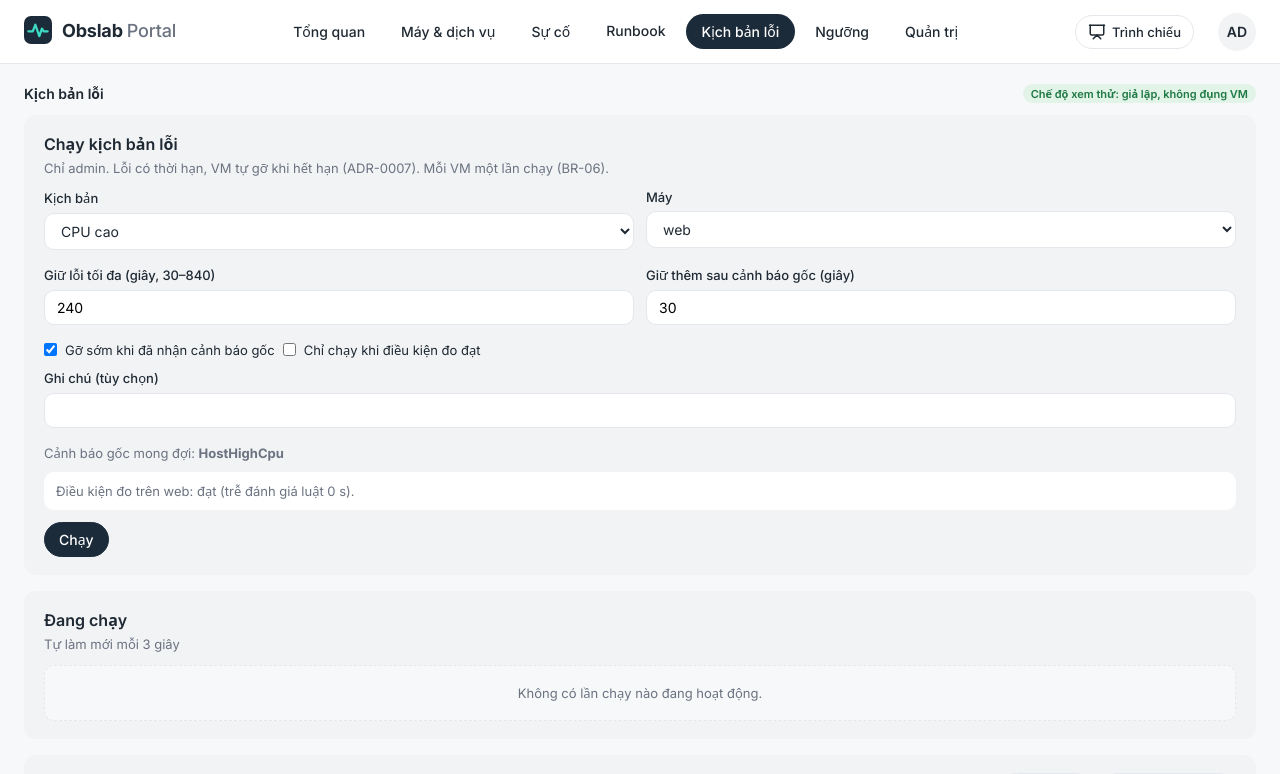
it: kịch bản lỗi › chế độ xem thử: chạy kịch bản gửi đúng tham số
Expected: the text "Chế độ xem thử: giả lập, không đụng VM" is shown, left=1023, top=84, right=1256, bottom=103
Select "RAM cao" in the dropdown labelled "Kịch bản" at (339, 232), box left=44, top=213, right=634, bottom=250
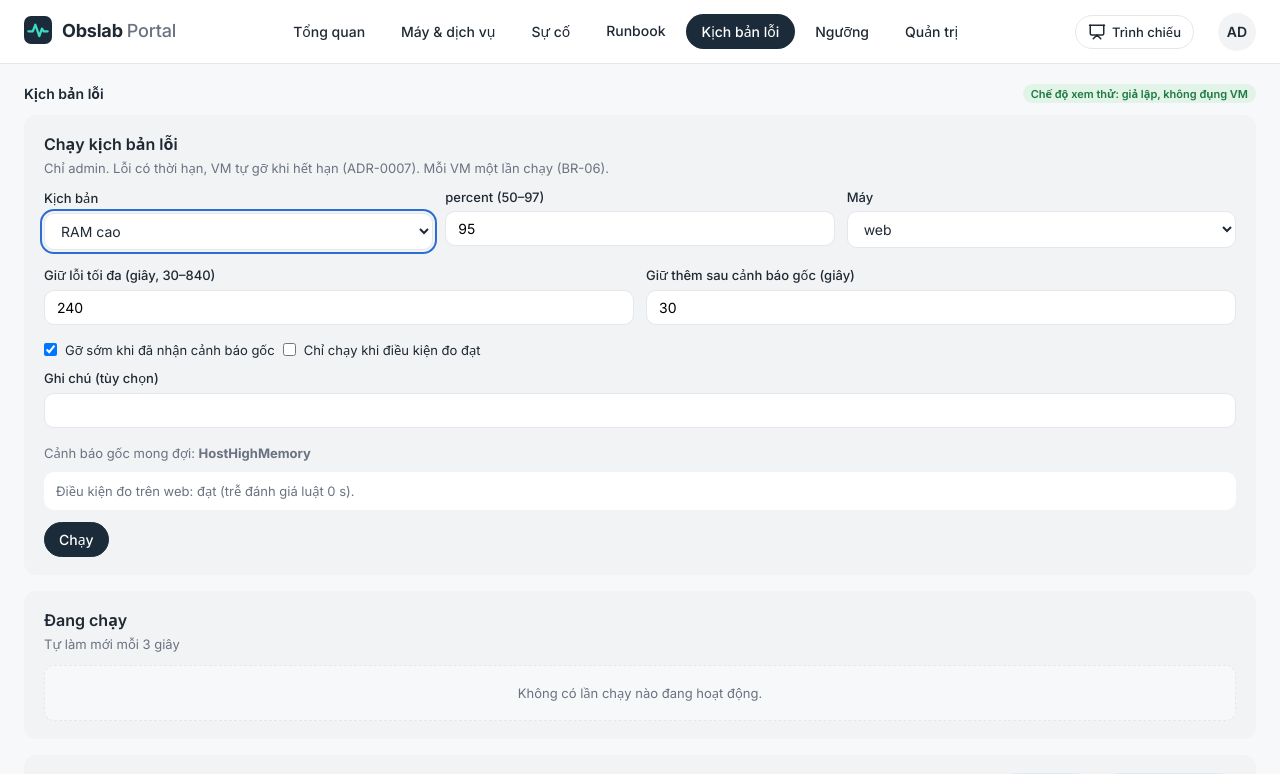
Replace the text in the number field labelled "percent (50–97)" with "90" at (640, 228), box left=445, top=211, right=835, bottom=246
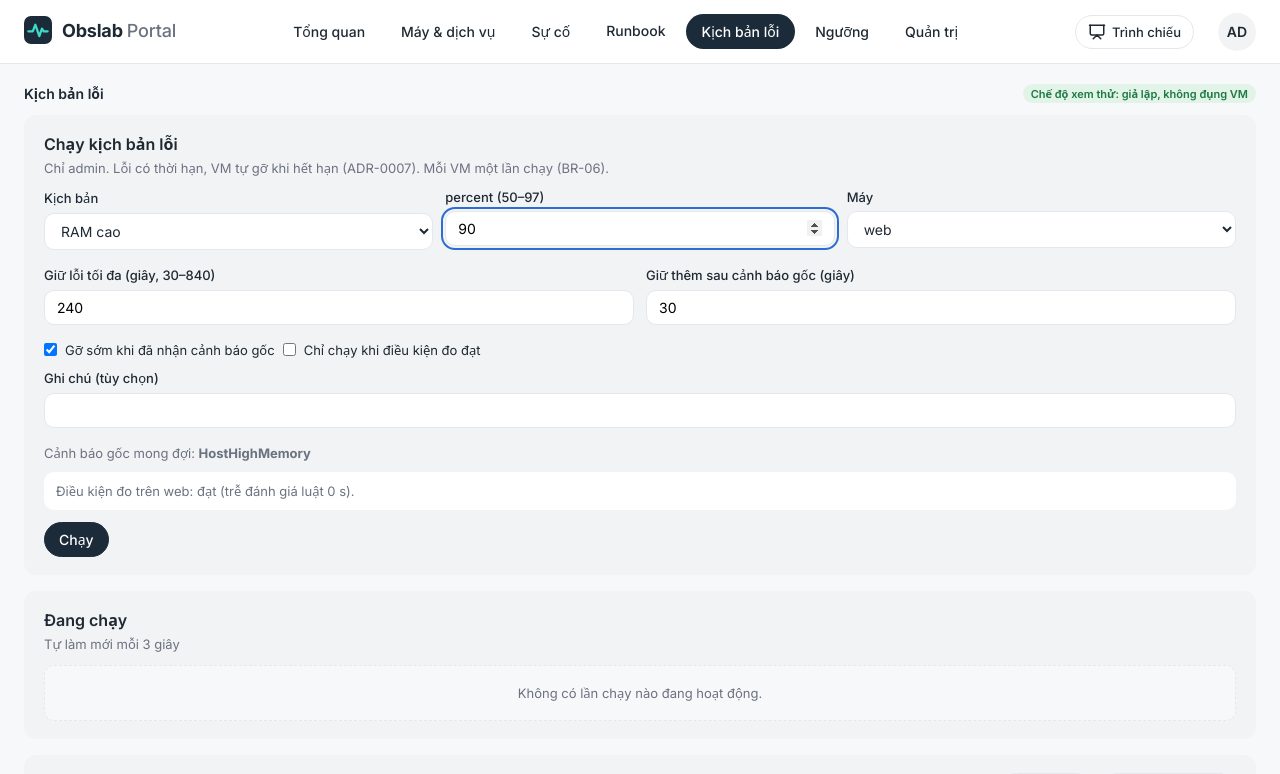
Select "db" in the dropdown labelled "Máy" at (1041, 230), box left=847, top=211, right=1236, bottom=248
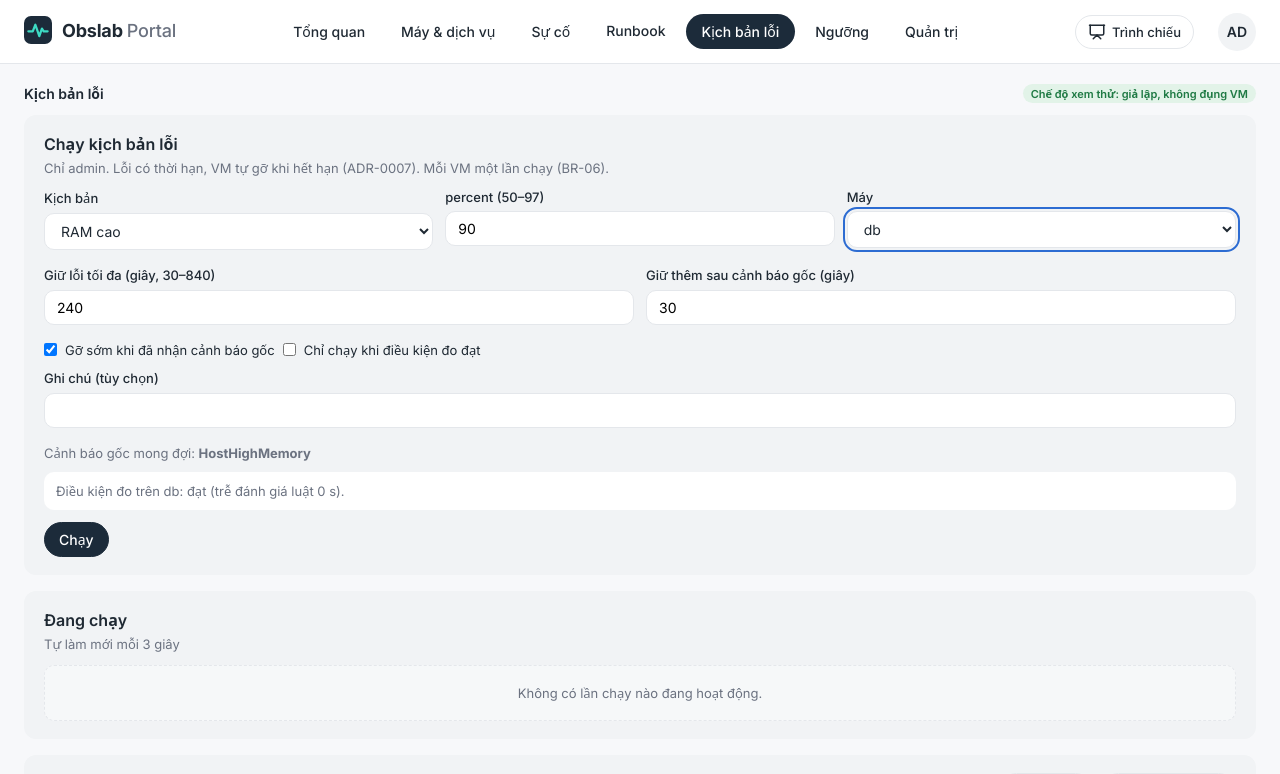
Click the button "Chạy" at (76, 540), box left=44, top=522, right=109, bottom=557
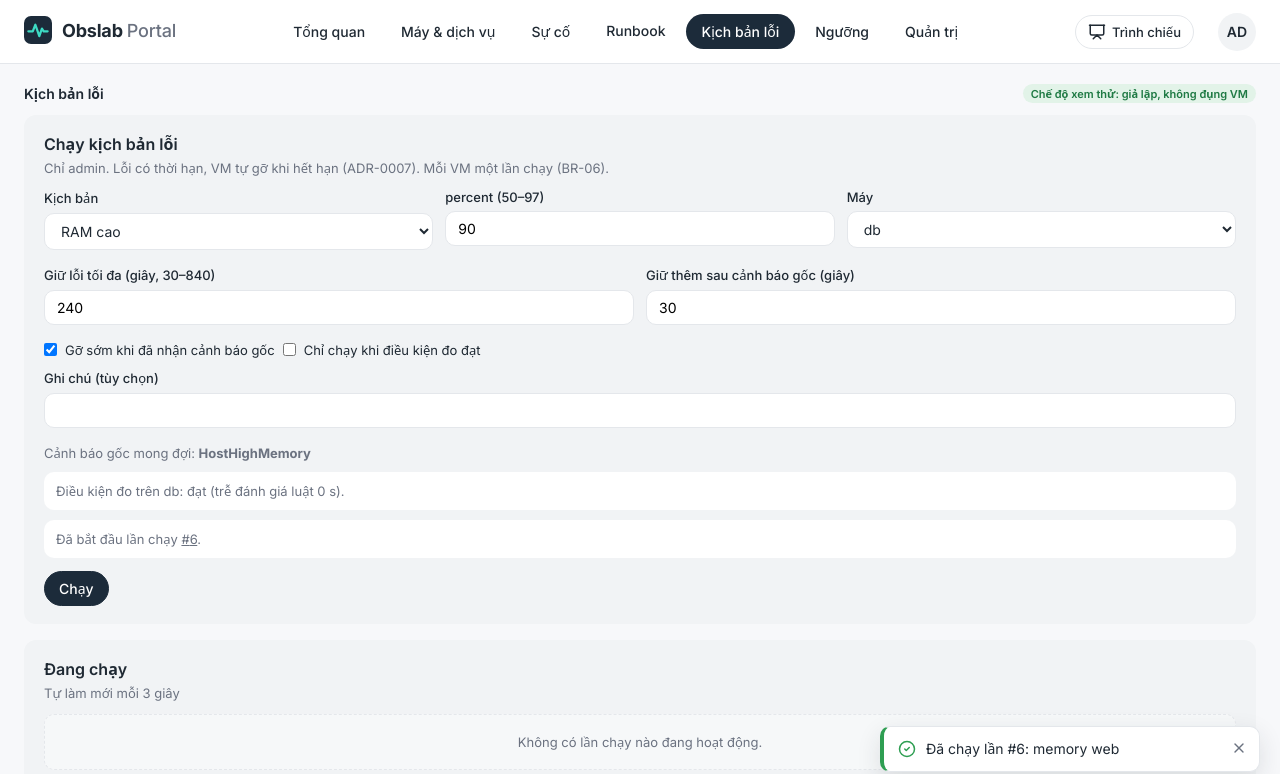
Result: the text "Đã bắt đầu lần chạy #6 ." is shown at left=44, top=520, right=1236, bottom=558
